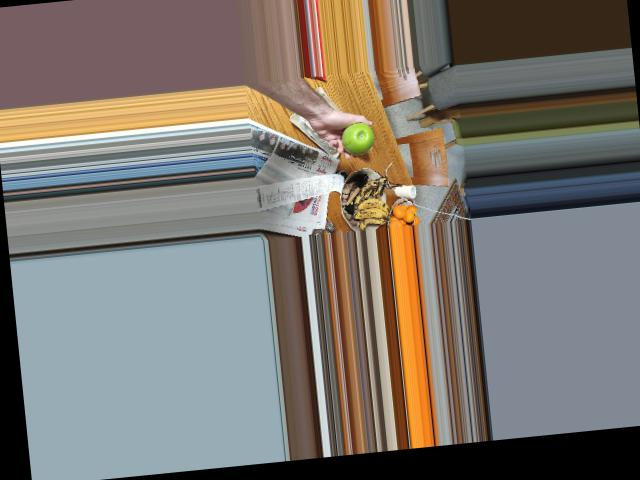apple: (337, 120, 381, 157)
